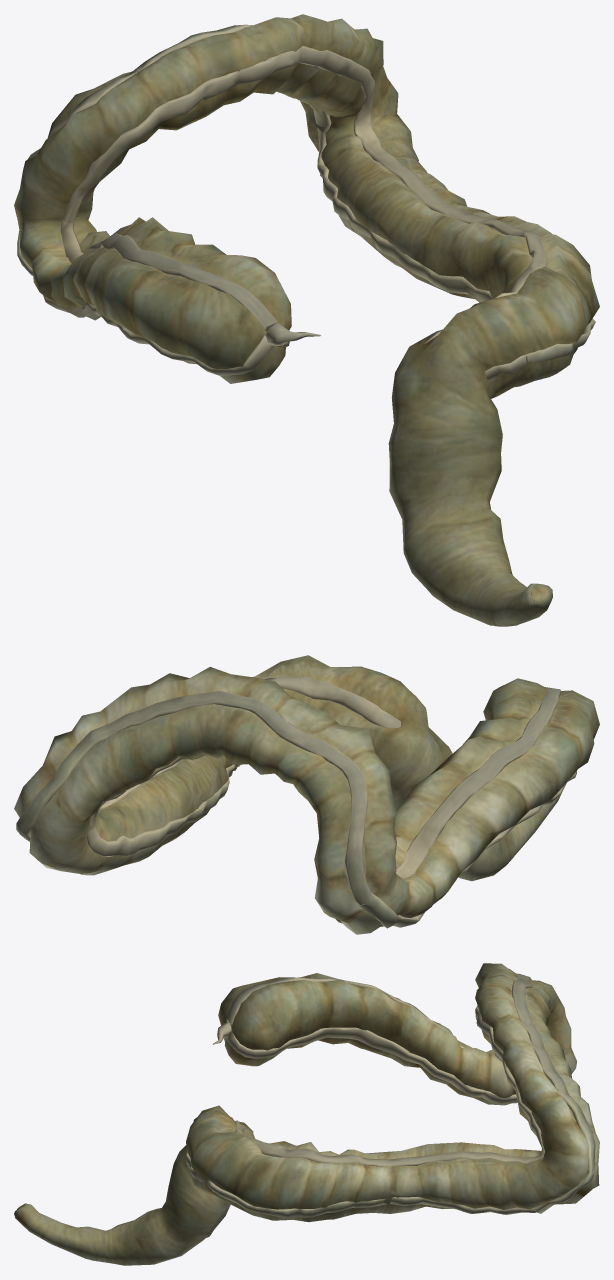
File: asset5.glb
The picture shows the model from 3 angles, top to bottom: view 1: azimuth 30°, elevation 25°; view 2: azimuth 150°, elevation 25°; view 3: azimuth 270°, elevation 25°; orthographic projection. The views are drawn at different scales.
Visible parts, largest first — view 1: Colon_pivot; view 2: Colon_pivot; view 3: Colon_pivot.
Boxes of the visible parts, box(x1,y1,x2,y2) form: Colon_pivot: box(14, 14, 599, 626); Colon_pivot: box(14, 655, 599, 934); Colon_pivot: box(14, 963, 599, 1265).
Size of the model in its own units: 0.3775 by 0.3116 by 0.5817.
Materials: 1 (1 with a texture image).
